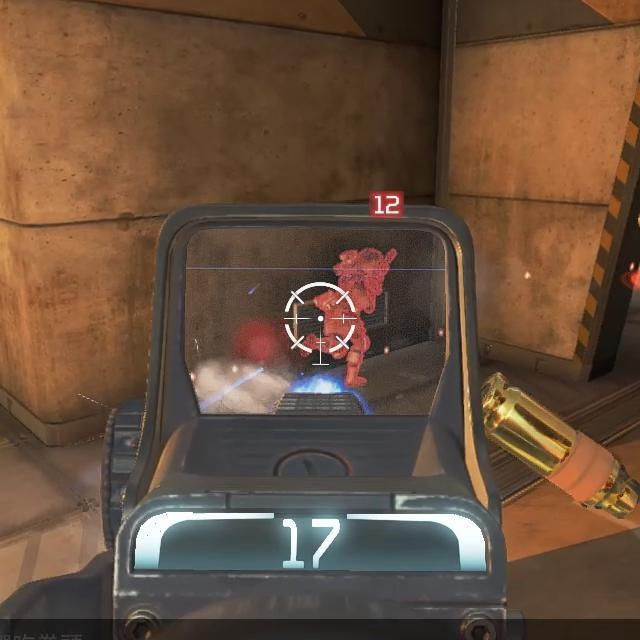avatar: (311, 246, 399, 388)
